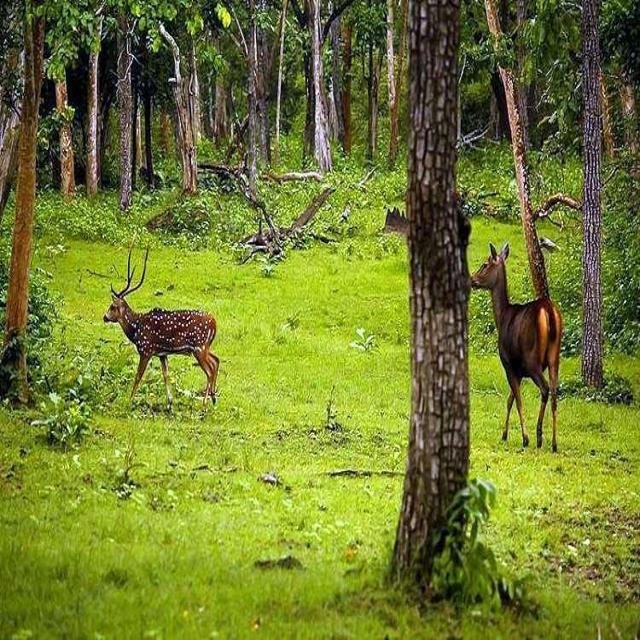deer: (453, 226, 596, 474), (84, 226, 253, 432)
